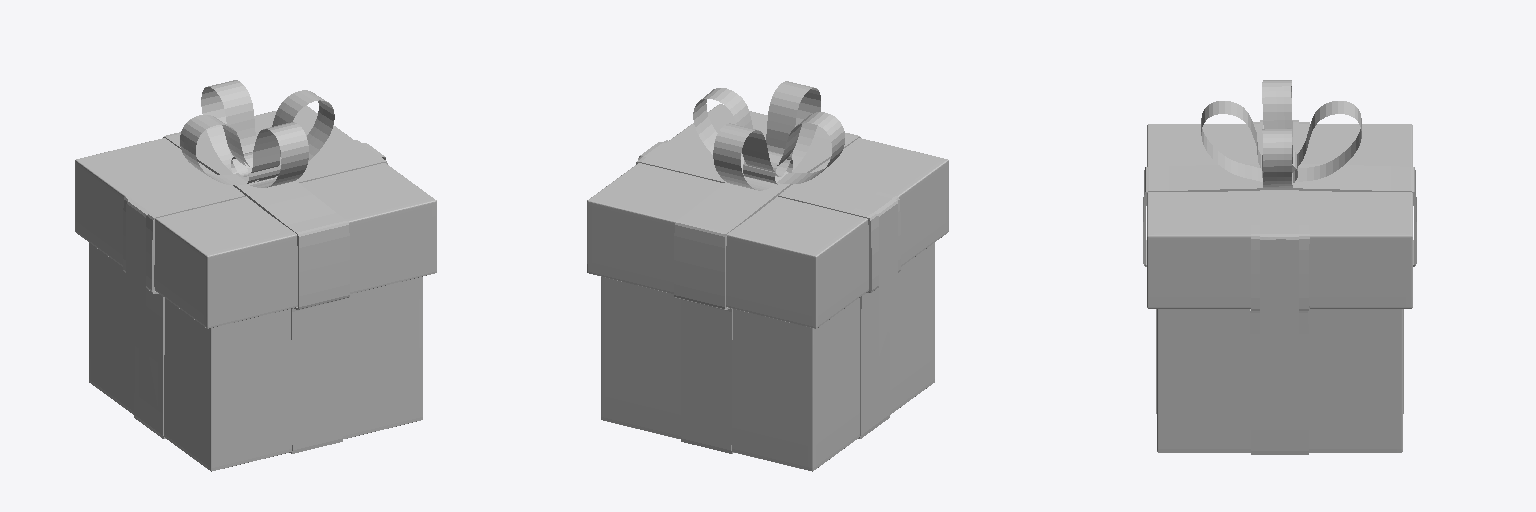
File: giftBox.obj
3 views of the same model, side by side, from view 1: azimuth 30°, elevation 25°; view 2: azimuth 150°, elevation 25°; view 3: azimuth 270°, elevation 25° (orthographic).
Parts seen in each view (by area): view 1: ribbon_5_Vert; view 2: ribbon_5_Vert; view 3: ribbon_5_Vert.
Boxes of the visible parts, x1,y1,x2,y2 form: ribbon_5_Vert: [75, 80, 436, 471]; ribbon_5_Vert: [587, 81, 948, 471]; ribbon_5_Vert: [1143, 80, 1416, 454].
Bounding box in the file's own units: 0.9052 × 1.07 × 0.8908.